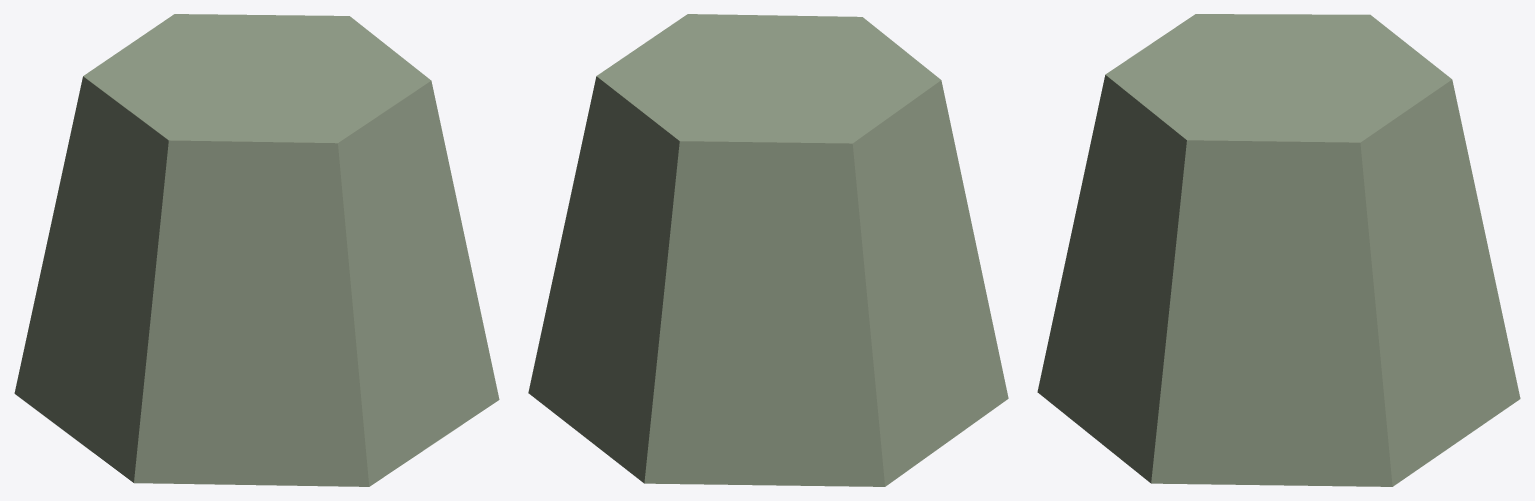
File: 03_Roche_02_v001.fbx
3 views of the same model, side by side, from view 1: azimuth 30°, elevation 25°; view 2: azimuth 150°, elevation 25°; view 3: azimuth 270°, elevation 25° (orthographic).
Parts seen in each view (by area): view 1: Roche_02; view 2: Roche_02; view 3: Roche_02.
Boxes of the visible parts, left/top/right/bottom form: Roche_02: left=14, top=14, right=499, bottom=486; Roche_02: left=528, top=14, right=1008, bottom=486; Roche_02: left=1037, top=14, right=1520, bottom=486.
Size of the model in its own units: 1.75 by 1.46 by 2.
